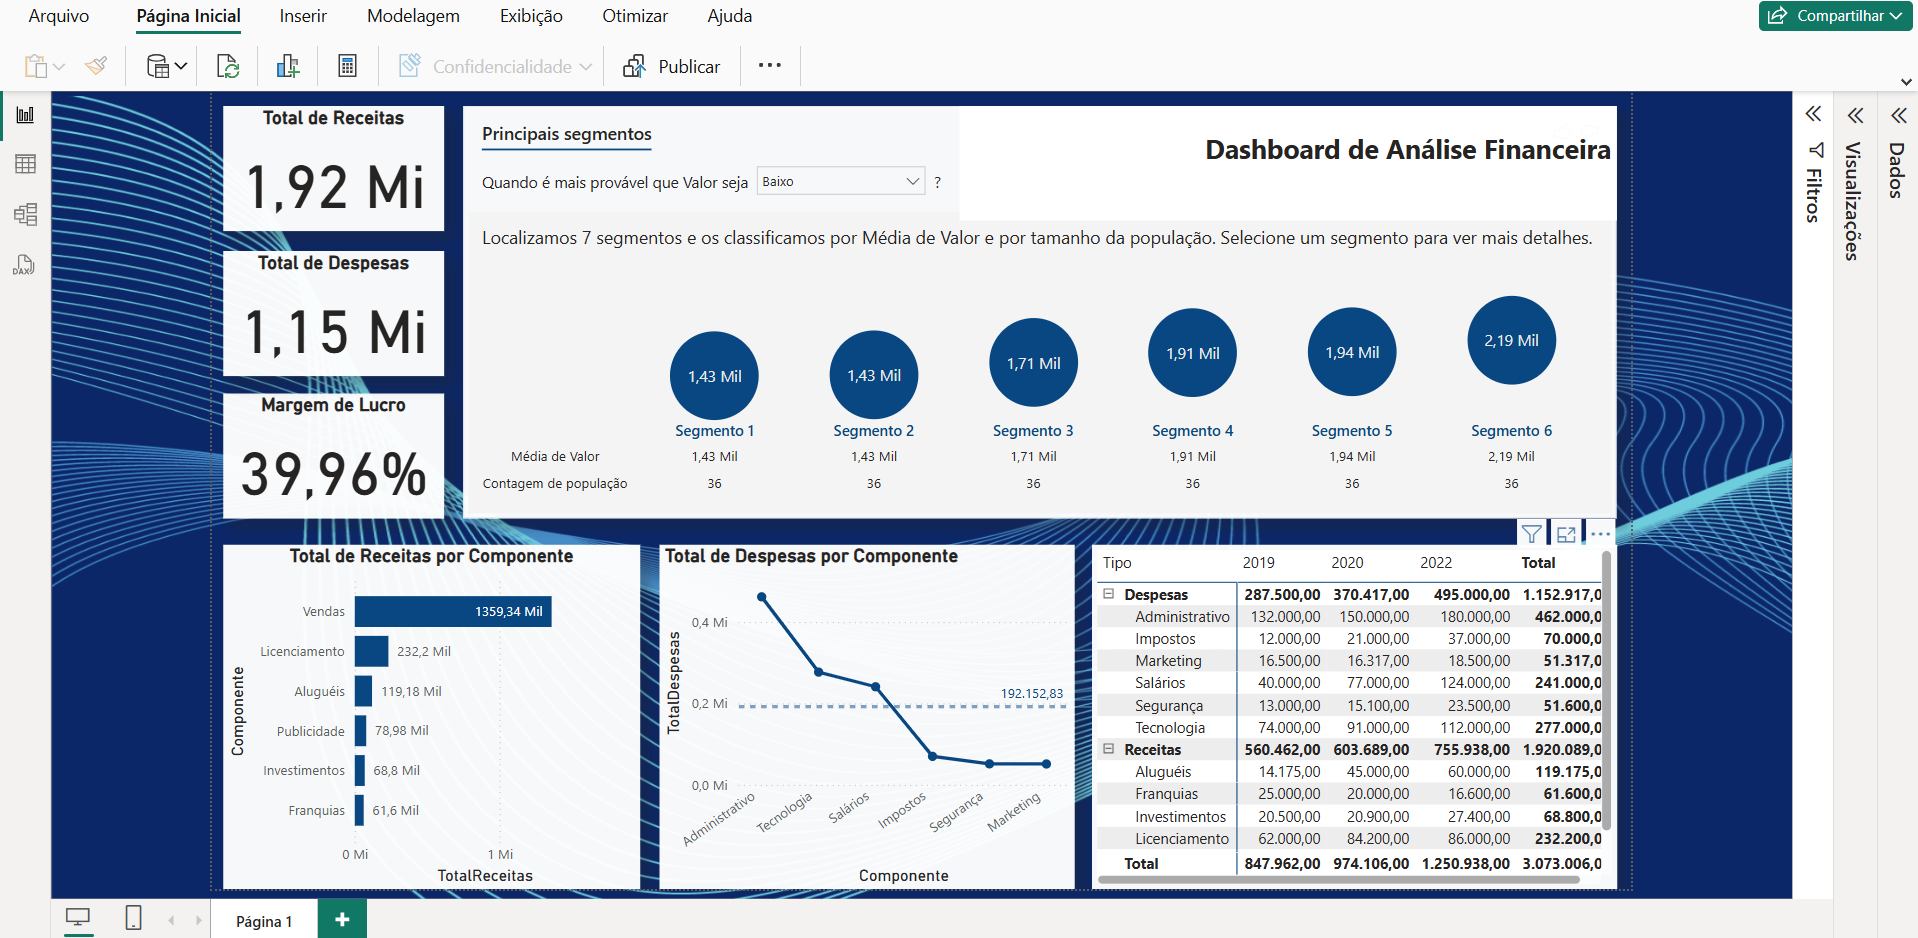

What the dashboard file says about the page in this screenshot:
{"tool":"powerbi","page":{"name":"Página 1","canvas":[1280,720],"ordinal":0},"visuals":[{"type":"card","title":"Total de Receitas","fields":{"Values":["IndicadoresFinanceiros.TotalReceitas"]},"box":[9.6,13.7,199,112.5],"z":0},{"type":"card","title":"Margem de Lucro","fields":{"Values":["IndicadoresFinanceiros.MargemLucro"]},"box":[9.6,273.1,199,112.5],"z":1000},{"type":"card","title":"Total de Despesas","fields":{"Values":["IndicadoresFinanceiros.TotalDespesas"]},"box":[9.6,144.1,199,112.5],"z":2000},{"type":"barChart","title":"Total de Receitas por Componente","fields":{"Y":["IndicadoresFinanceiros.TotalReceitas"],"Category":["DadosFinanceiros.Componente"]},"box":[9.6,408.9,376,311.5],"z":3000},{"type":"lineChart","title":"Total de Despesas por Componente","fields":{"Y":["IndicadoresFinanceiros.TotalDespesas"],"Category":["DadosFinanceiros.Componente"]},"box":[403.4,408.9,374.6,311.5],"z":4000},{"type":"pivotTable","fields":{"Rows":["DadosFinanceiros.Tipo","DadosFinanceiros.Componente"],"Values":["Sum(DadosFinanceiros.Valor)"],"Columns":["DadosFinanceiros.Data.Variation.Hierarquia de datas.Ano"]},"box":[793.1,408.9,473.4,311.5],"z":5000},{"type":"keyDriversVisual","fields":{"Target":["DadosFinanceiros.Valor"],"ExplainBy":["DadosFinanceiros.Tipo","DadosFinanceiros.Componente"]},"box":[226.4,13.7,1040.1,371.9],"z":6000},{"type":"textbox","box":[673.8,13.7,592.8,102.9],"z":7000}]}

Visuals, with their boxes on the page's 1280x720 design canvas (x1, y1, x2, y2). These are canvas units, not pixel positions in the 1918x938 screenshot, which may show the page scaled, cropped or inside an application window:
"Total de Receitas" card: <bbox>10, 14, 209, 126</bbox>
"Margem de Lucro" card: <bbox>10, 273, 209, 386</bbox>
"Total de Despesas" card: <bbox>10, 144, 209, 257</bbox>
"Total de Receitas por Componente" barChart: <bbox>10, 409, 386, 720</bbox>
"Total de Despesas por Componente" lineChart: <bbox>403, 409, 778, 720</bbox>
pivotTable - DadosFinanceiros.Tipo x DadosFinanceiros.Componente: <bbox>793, 409, 1266, 720</bbox>
keyDriversVisual - DadosFinanceiros.Valor x DadosFinanceiros.Tipo: <bbox>226, 14, 1266, 386</bbox>
textbox: <bbox>674, 14, 1267, 117</bbox>
